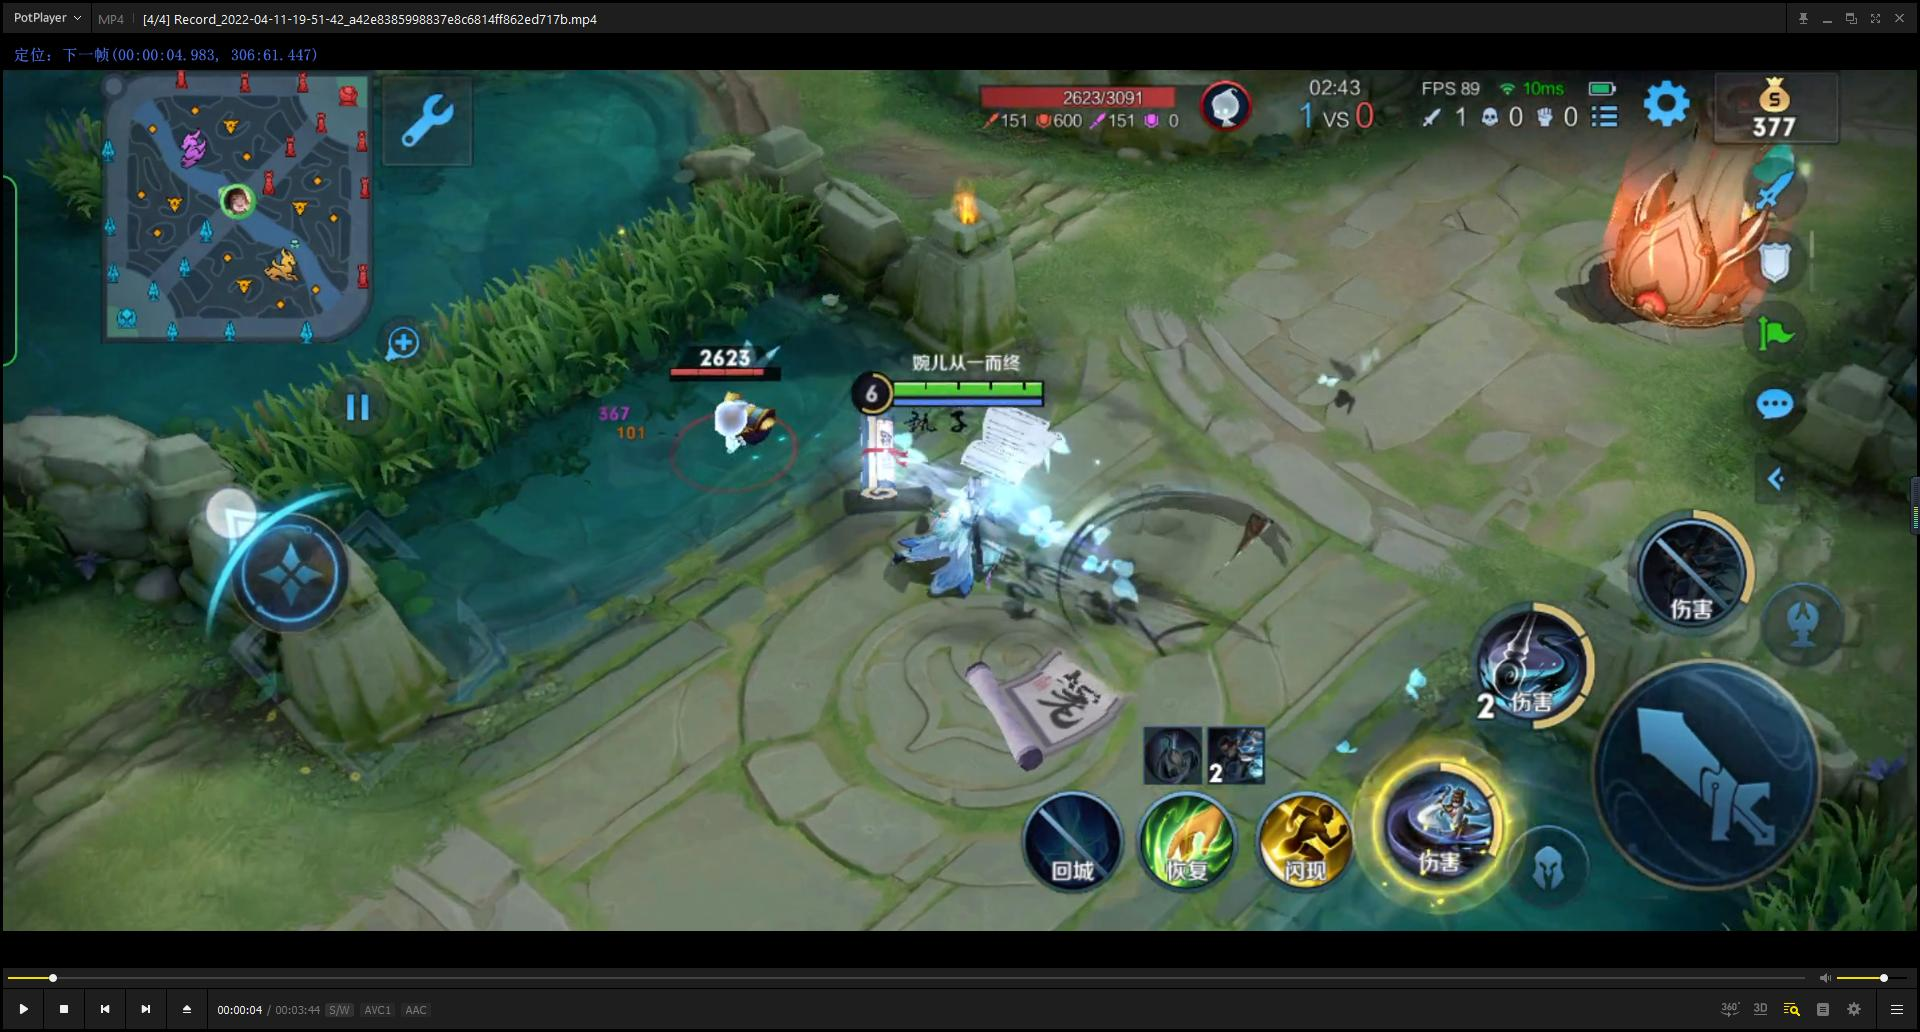Hero: (858, 423, 1079, 674)
Spirit: (632, 311, 817, 494)
Tower: (1565, 72, 1823, 343)
